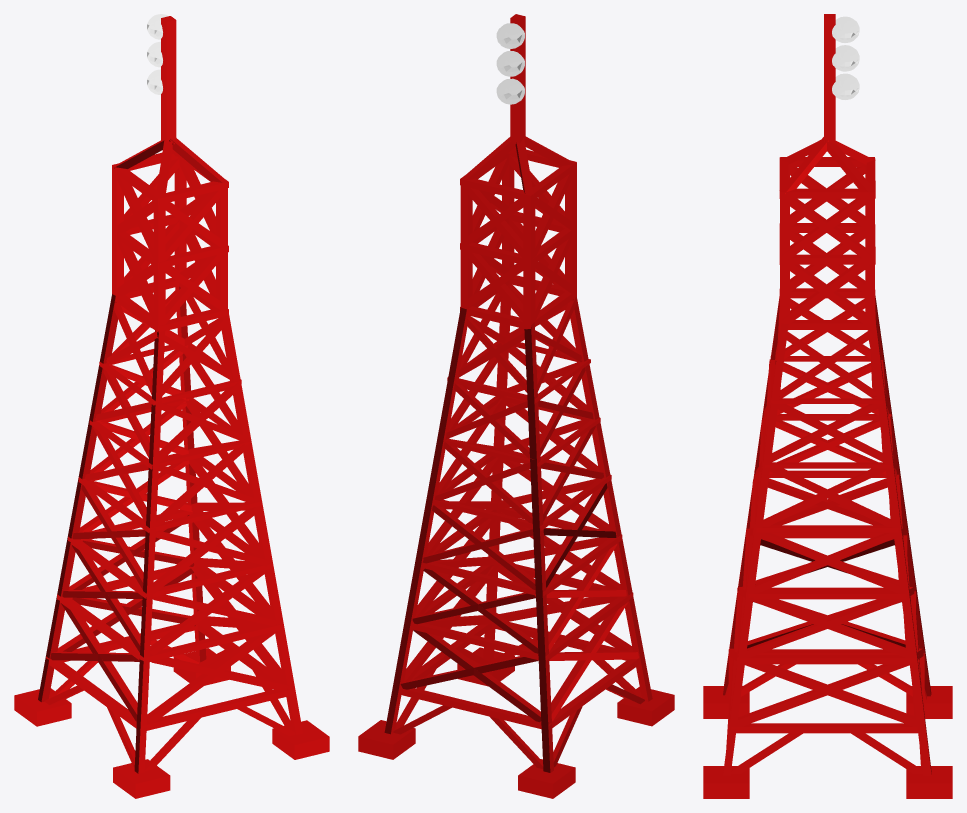
Rendered from asset.glb.
3 renders of one model, left to right at view 1: azimuth 30°, elevation 25°; view 2: azimuth 150°, elevation 25°; view 3: azimuth 270°, elevation 25°, orthographic. The views are drawn at different scales.
Parts seen in each view (by area): view 1: Radio tower; view 2: Radio tower; view 3: Radio tower.
Boxes of the visible parts, <box> form: Radio tower: <box>14,14,329,798</box>; Radio tower: <box>358,14,674,798</box>; Radio tower: <box>703,14,952,798</box>.
Size of the model in its own units: 4233 by 14850 by 4578.
